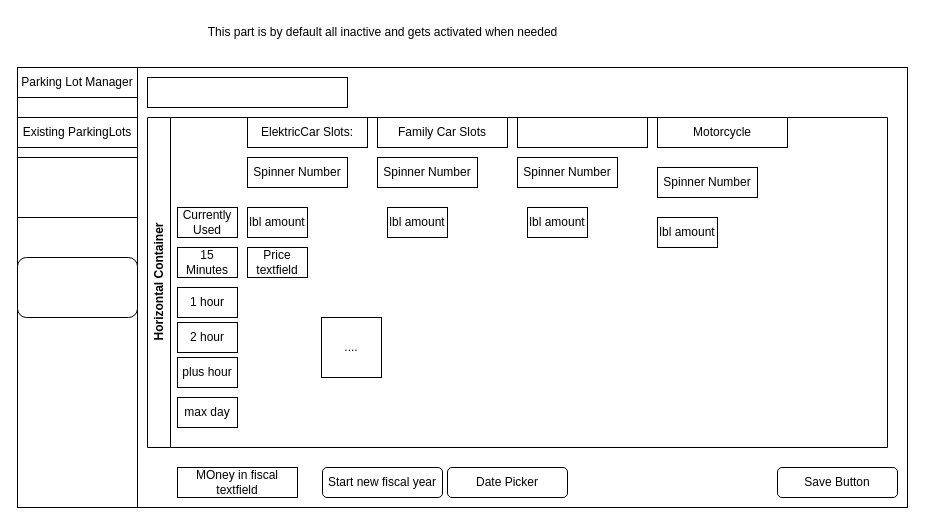
This 925x525 diagram has some shape labels left out. Each missing label, with the centre of its shape:
"Create New Button" belongs at [77,287].
"Dropdown for existing" belongs at [77,187].
"Small" belongs at [582,132].
"Text Field Parking Lot Name" belongs at [247,92].
